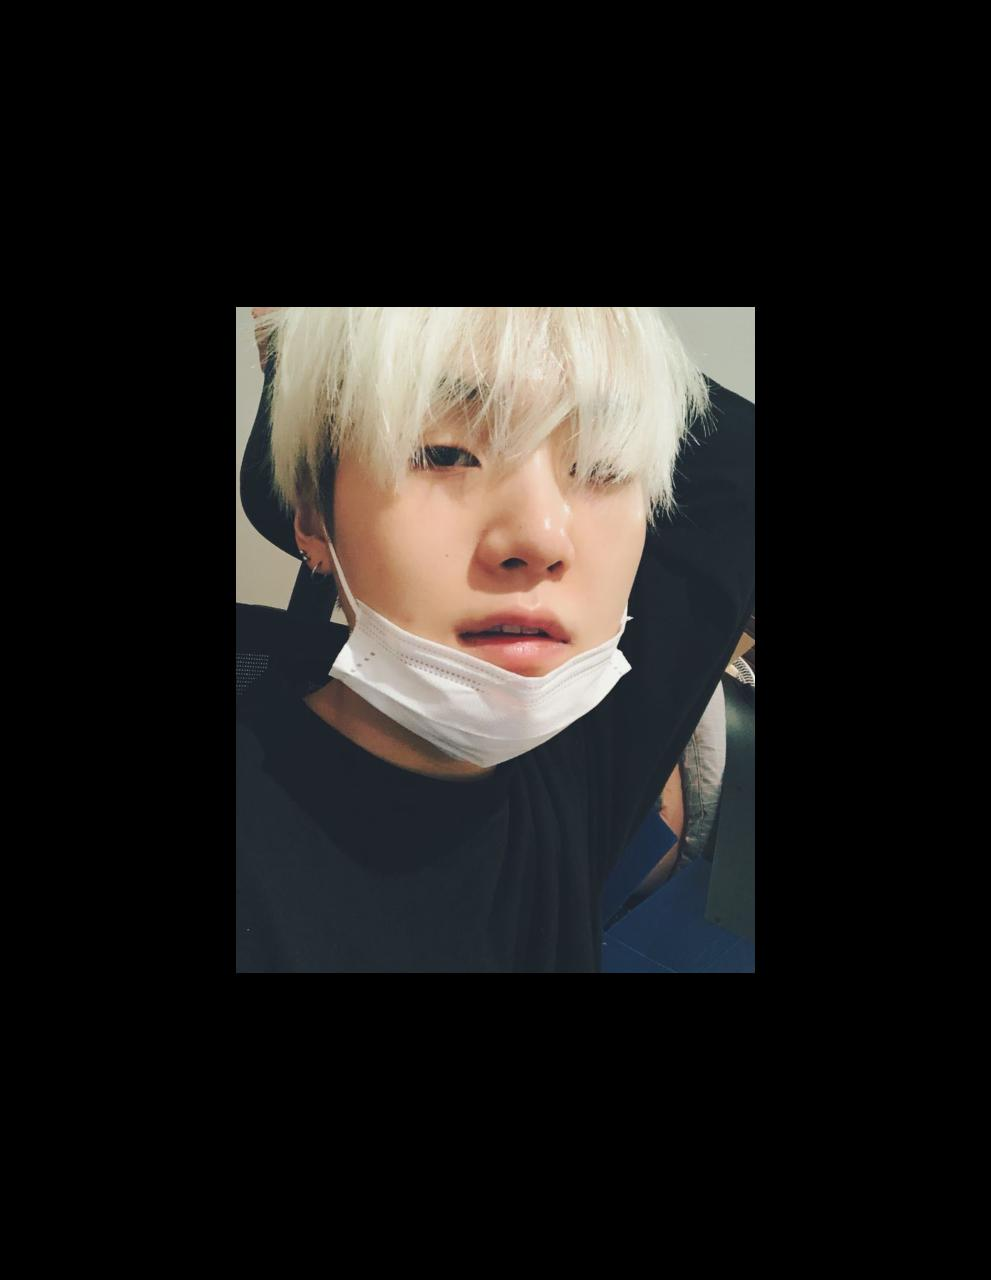mask_weared_incorrect: (359, 419, 637, 740)
